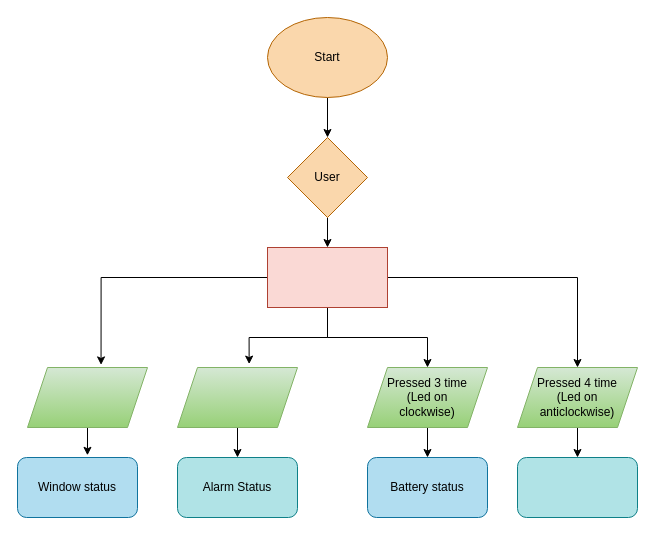
The diagram is 655 pixels wide and 535 high, and some of its shapes have lost their labels. The centre of each missing label's shape, as x and y in pixels:
"Door status" belongs at point 577,487.
"KEY" belongs at point 327,277.
"Pressed 1 time (All Led On)" belongs at point 87,397.
"Pressed 2 time (All Led Off)" belongs at point 237,397.
